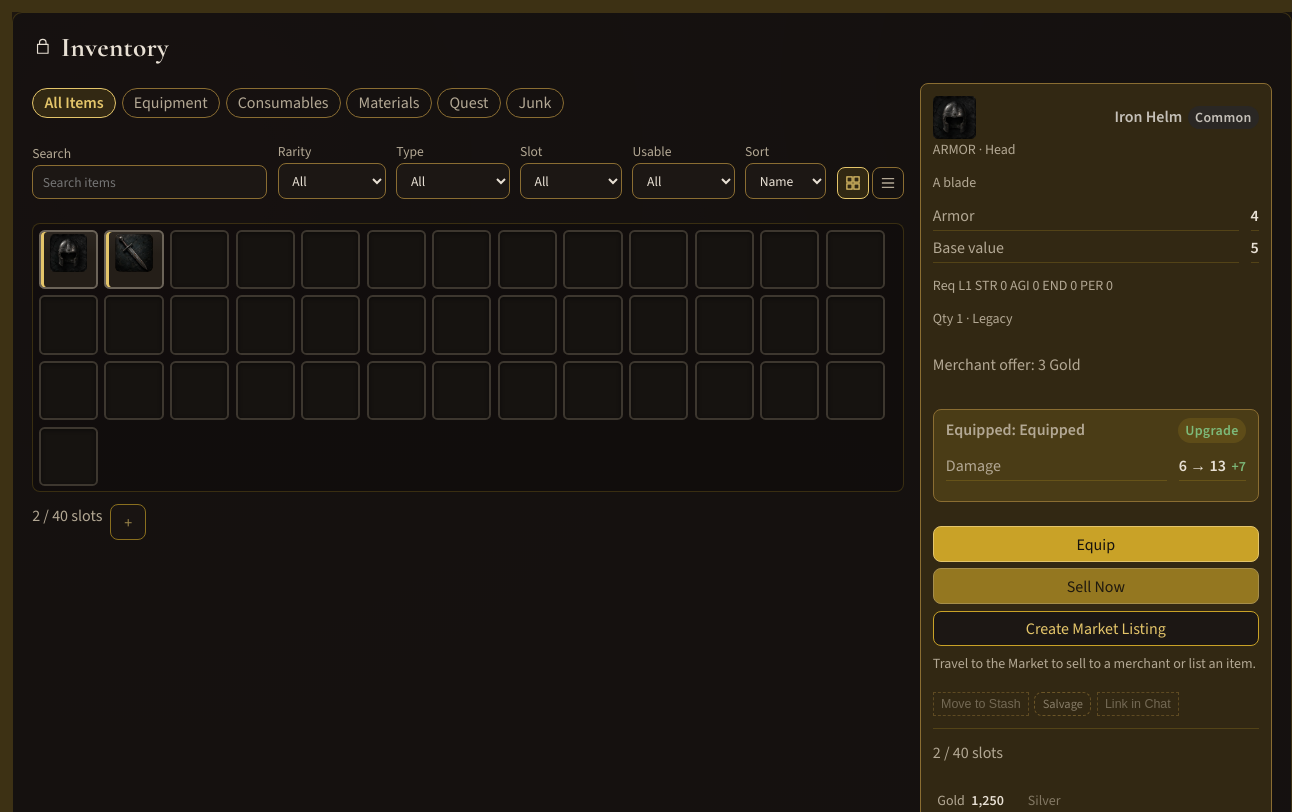
Test: InventoryPanel › filters by equipment slot from the slot control
Expected: the list item with test id "inventory-item-RUSTY_SWORD" is shown, [104,230,164,289]
Select "Head" in the dropdown with test id "inventory-slot-filter": (571,181) [520,163,622,199]
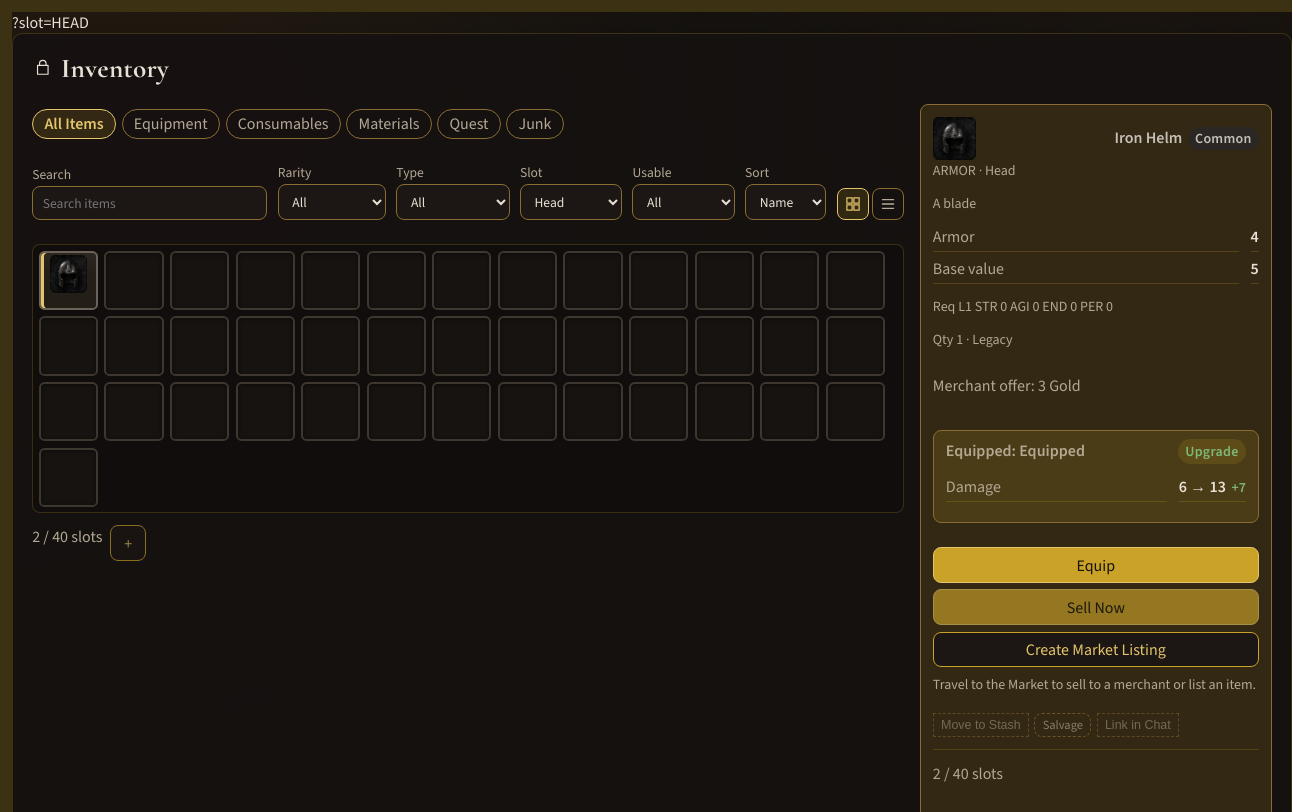
Expected: the list item with test id "inventory-item-IRON_HELM" is shown, [39,251,98,310]
Expected: the list item with test id "inventory-item-RUSTY_SWORD" is gone
